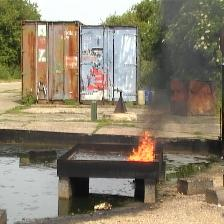fire: (128, 130, 156, 162)
